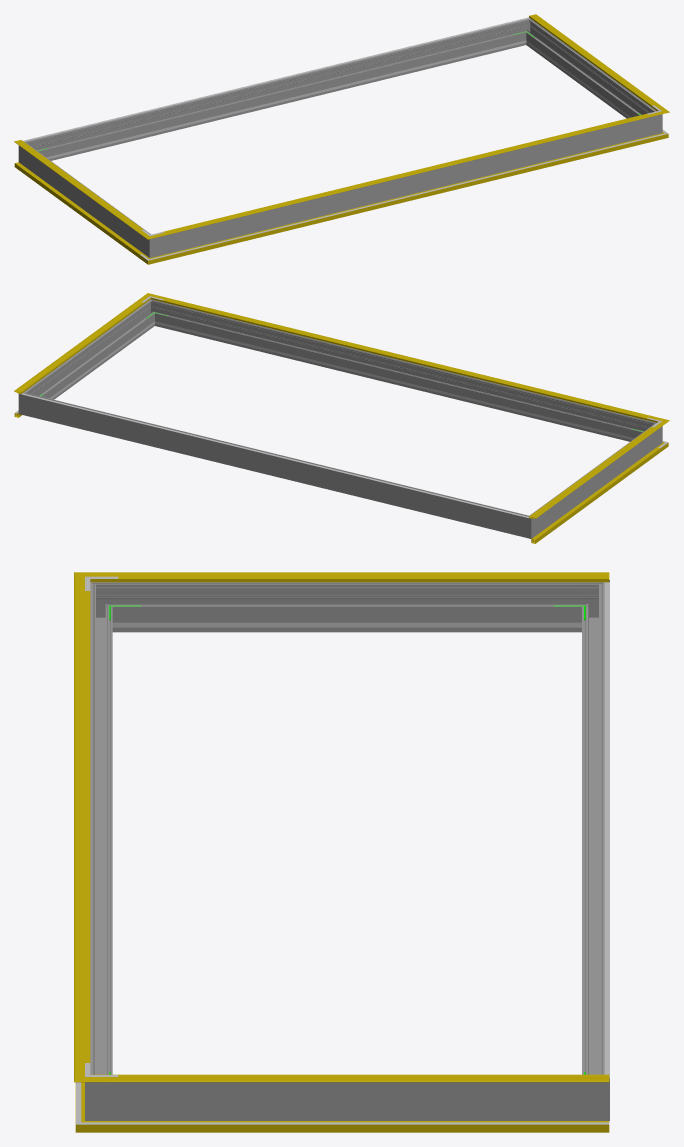
The picture shows the model from 3 angles, top to bottom: view 1: azimuth 30°, elevation 25°; view 2: azimuth 150°, elevation 25°; view 3: azimuth 270°, elevation 25°; orthographic projection. The views are drawn at different scales.
Visible parts, largest first — view 1: 3DGeom-276, 3DGeom-298, 3DGeom-297, 3DGeom-11, 3DGeom-268, 3DGeom-141, 3DGeom-244, 3DGeom-220, 3DGeom-20, 3DGeom-158, 3DGeom-145, 3DGeom-6 (+2 smaller); view 2: 3DGeom-298, 3DGeom-276, 3DGeom-297, 3DGeom-141, 3DGeom-268, 3DGeom-239, 3DGeom-220, 3DGeom-158, 3DGeom-145, 3DGeom-6, 3DGeom-147, 3DGeom-278; view 3: 3DGeom-268, 3DGeom-297, 3DGeom-298, 3DGeom-276, 3DGeom-16, 3DGeom-141, 3DGeom-147, 3DGeom-145, 3DGeom-220, 3DGeom-158, 3DGeom-232, 3DGeom-18 (+6 smaller).
Boxes of the visible parts, <box> form: 3DGeom-276: <box>34,21,523,160</box>; 3DGeom-298: <box>164,118,647,254</box>; 3DGeom-297: <box>527,23,651,118</box>; 3DGeom-11: <box>161,135,654,260</box>; 3DGeom-268: <box>27,147,145,251</box>; 3DGeom-141: <box>160,113,655,235</box>; 3DGeom-244: <box>51,44,512,158</box>; 3DGeom-220: <box>23,17,529,141</box>; 3DGeom-20: <box>162,136,653,256</box>; 3DGeom-158: <box>163,114,647,232</box>; 3DGeom-145: <box>529,14,660,108</box>; 3DGeom-6: <box>14,162,143,258</box>; 3DGeom-298: <box>157,302,646,441</box>; 3DGeom-276: <box>33,395,518,535</box>; 3DGeom-297: <box>29,304,153,399</box>; 3DGeom-141: <box>158,296,654,421</box>; 3DGeom-268: <box>535,428,654,532</box>; 3DGeom-239: <box>169,324,629,439</box>; 3DGeom-220: <box>21,393,528,518</box>; 3DGeom-158: <box>163,299,647,418</box>; 3DGeom-145: <box>14,299,146,393</box>; 3DGeom-6: <box>531,447,660,543</box>; 3DGeom-147: <box>529,425,661,518</box>; 3DGeom-278: <box>516,511,539,538</box>; 3DGeom-268: <box>118,582,576,632</box>; 3DGeom-297: <box>118,1082,576,1120</box>; 3DGeom-298: <box>90,594,112,1074</box>; 3DGeom-276: <box>582,594,604,1074</box>; 3DGeom-16: <box>109,1121,609,1132</box>; 3DGeom-141: <box>74,586,84,1067</box>; 3DGeom-147: <box>107,572,609,582</box>; 3DGeom-145: <box>107,1074,609,1082</box>; 3DGeom-220: <box>604,582,609,1078</box>; 3DGeom-158: <box>85,591,90,1062</box>; 3DGeom-232: <box>145,622,549,627</box>; 3DGeom-18: <box>109,1122,609,1124</box>.
Size of the model in its own units: 5.49 by 0.2596 by 2.44.
